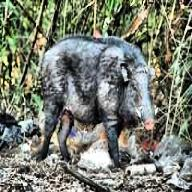boar: (34, 33, 156, 168)
